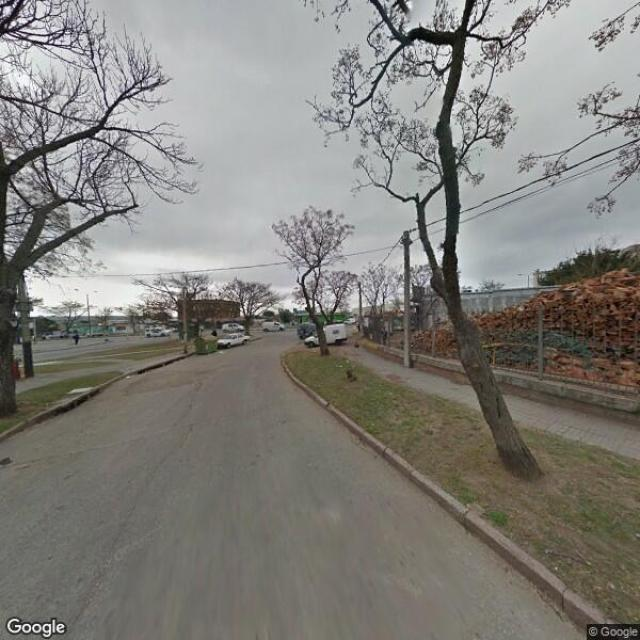garbage container: (193, 335, 224, 360)
